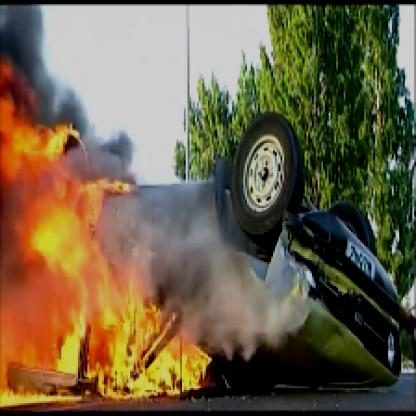Fire: (2, 58, 215, 414)
